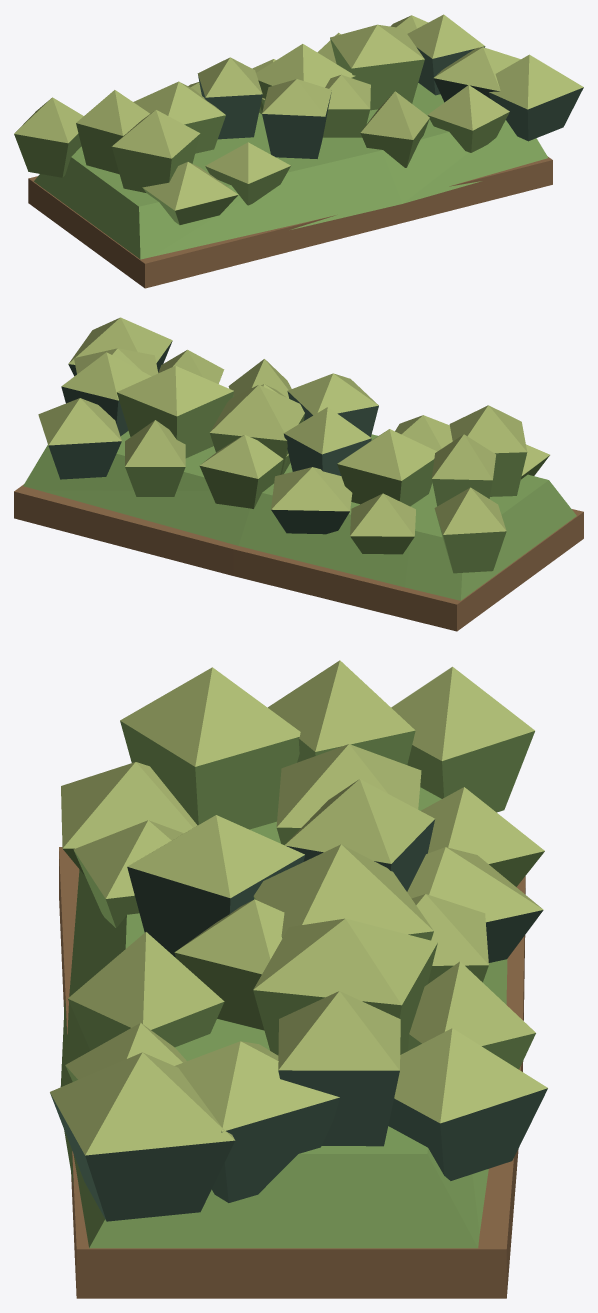
The model's file is work-row-green.glb.
3 views of the same model, one above another, from view 1: azimuth 30°, elevation 25°; view 2: azimuth 150°, elevation 25°; view 3: azimuth 270°, elevation 25° (orthographic). The views are drawn at different scales.
Visible parts, largest first — view 1: work-row-green; view 2: work-row-green; view 3: work-row-green.
Boxes of the visible parts, box(x1,y1,x2,y2) form: work-row-green: box(14, 14, 583, 288); work-row-green: box(14, 317, 583, 631); work-row-green: box(50, 660, 547, 1298).
Size of the model in its own units: 2.31 by 0.6434 by 1.05.
1 material, 1 textured.
